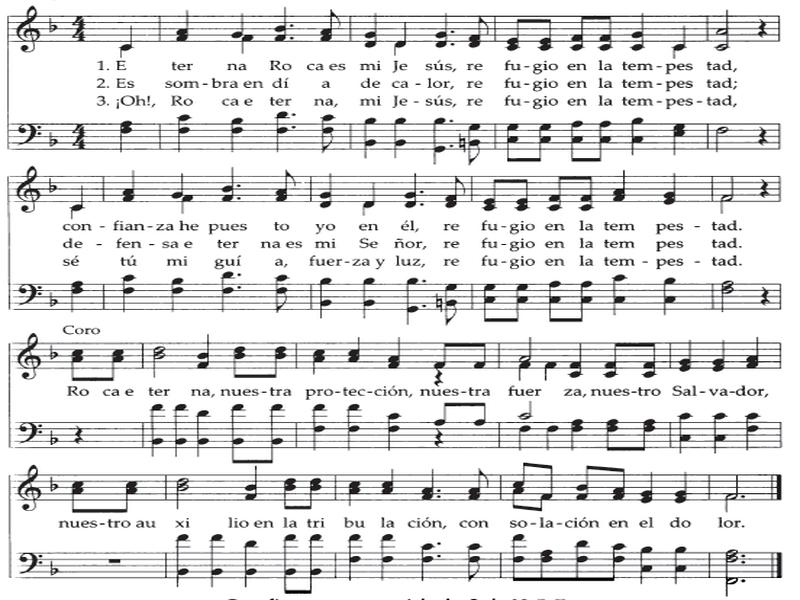B: (714, 4, 738, 57), (714, 279, 739, 316), (151, 340, 172, 379), (173, 476, 197, 510), (513, 339, 536, 362), (720, 176, 741, 201), (725, 473, 741, 504), (714, 124, 728, 158), (517, 400, 537, 420), (722, 547, 737, 573), (717, 195, 734, 214), (721, 493, 739, 510), (726, 575, 737, 600)
Bem: (46, 560, 64, 578), (45, 177, 57, 197), (44, 16, 57, 34), (48, 132, 60, 151), (48, 475, 59, 494), (47, 292, 57, 312), (48, 344, 57, 362), (47, 433, 57, 449)
C: (264, 403, 287, 468), (279, 531, 301, 598), (460, 539, 489, 585), (227, 402, 247, 465), (266, 273, 297, 313), (113, 473, 141, 515), (308, 534, 327, 595), (530, 119, 555, 164), (227, 339, 253, 382), (466, 465, 493, 506), (605, 464, 632, 505), (320, 3, 344, 47), (271, 167, 298, 206), (542, 277, 563, 327), (445, 279, 466, 327), (508, 534, 527, 587), (599, 343, 626, 380), (602, 540, 624, 585), (567, 118, 588, 165), (268, 344, 292, 385), (480, 280, 501, 326), (511, 280, 531, 326), (640, 406, 659, 454), (575, 464, 599, 502), (466, 121, 485, 168), (467, 17, 492, 52), (504, 118, 523, 164), (598, 415, 621, 453), (544, 175, 567, 212), (539, 463, 560, 503), (70, 469, 88, 515), (442, 176, 467, 209), (483, 175, 504, 214), (538, 10, 557, 53), (318, 114, 338, 154), (572, 536, 589, 581), (106, 344, 126, 382), (577, 279, 593, 323), (66, 347, 85, 384), (276, 477, 295, 514), (506, 17, 527, 50), (578, 176, 596, 214), (534, 489, 560, 514), (570, 14, 587, 52), (596, 118, 610, 164), (595, 10, 611, 49), (643, 336, 658, 376), (514, 178, 530, 214), (309, 473, 323, 514), (471, 401, 492, 428), (473, 341, 490, 372), (432, 401, 453, 426), (434, 340, 453, 367), (537, 545, 550, 584), (513, 458, 529, 487), (511, 487, 529, 508)
CF: (16, 410, 43, 454), (16, 116, 44, 153), (17, 543, 45, 579), (15, 277, 43, 312)
CS: (13, 463, 44, 519), (12, 3, 42, 60), (14, 164, 40, 218), (17, 327, 40, 384)
N: (627, 5, 656, 54), (341, 532, 364, 584), (172, 534, 192, 593), (109, 116, 138, 156), (627, 113, 650, 162), (307, 402, 327, 458), (171, 5, 197, 47), (387, 117, 414, 156), (263, 111, 287, 154), (359, 276, 378, 329), (172, 113, 195, 155), (173, 403, 190, 458), (414, 542, 433, 590), (636, 542, 657, 585), (357, 114, 377, 159), (668, 543, 688, 588), (148, 404, 164, 459), (206, 534, 222, 588), (709, 411, 728, 456), (607, 274, 628, 314), (240, 542, 260, 584), (316, 276, 334, 322), (707, 340, 731, 374), (347, 404, 364, 452), (223, 116, 245, 153), (197, 408, 211, 466), (387, 409, 405, 454), (316, 172, 337, 210), (190, 334, 213, 368), (377, 533, 393, 581), (662, 274, 679, 319), (270, 4, 289, 44), (670, 118, 689, 158), (743, 412, 761, 454), (403, 275, 418, 325), (671, 473, 691, 510), (675, 411, 693, 452), (431, 12, 448, 53), (431, 116, 445, 165), (122, 171, 142, 205), (120, 274, 137, 314), (365, 12, 383, 49), (219, 167, 237, 204), (638, 469, 657, 504), (242, 470, 261, 504), (419, 467, 436, 503), (118, 21, 138, 51), (669, 22, 691, 49), (167, 277, 183, 314), (567, 345, 586, 376), (394, 17, 413, 46), (342, 339, 367, 361), (307, 348, 328, 374), (567, 417, 584, 449), (680, 340, 695, 376), (662, 174, 678, 207), (68, 277, 82, 314), (349, 474, 364, 508), (613, 170, 627, 206), (239, 31, 260, 54), (221, 269, 231, 315), (747, 338, 760, 372), (387, 339, 404, 365), (405, 174, 417, 210), (229, 13, 245, 38), (515, 425, 531, 449), (169, 172, 183, 199), (665, 41, 687, 58), (544, 423, 557, 449), (73, 183, 84, 213), (385, 470, 397, 497), (360, 185, 377, 204), (360, 199, 377, 216), (544, 359, 557, 380), (117, 42, 134, 58), (517, 362, 531, 381), (183, 189, 193, 214), (393, 40, 405, 57), (67, 204, 83, 216)
SN: (102, 555, 135, 568), (427, 430, 447, 451), (72, 423, 89, 445), (758, 283, 772, 309), (755, 17, 770, 40), (431, 370, 447, 388), (754, 128, 769, 146), (757, 180, 770, 196)
SOS: (428, 292, 445, 312), (456, 134, 466, 150)
